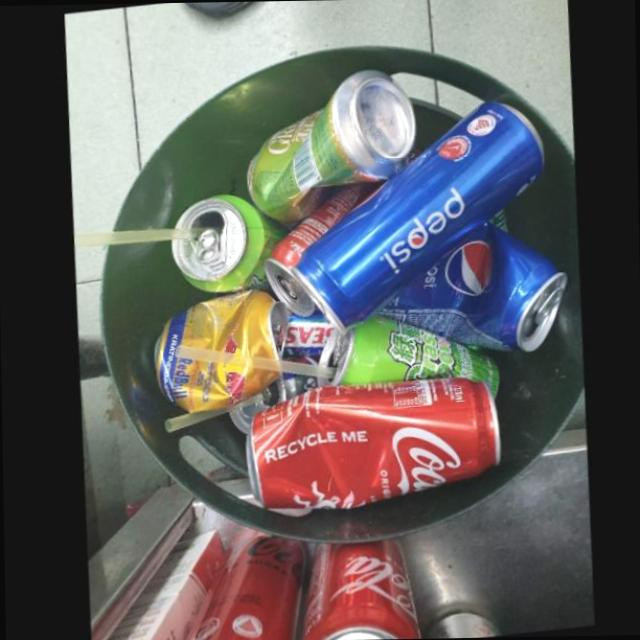nhom: (285, 103, 538, 333), (243, 378, 497, 512), (241, 71, 411, 227), (372, 223, 563, 354), (150, 289, 284, 414), (259, 182, 381, 318), (312, 317, 496, 400), (184, 529, 304, 640), (167, 196, 284, 302), (301, 539, 421, 640), (226, 374, 314, 435), (280, 357, 316, 366)
ong_hut_nhua: (172, 346, 334, 380), (161, 389, 268, 433), (69, 228, 216, 247)
